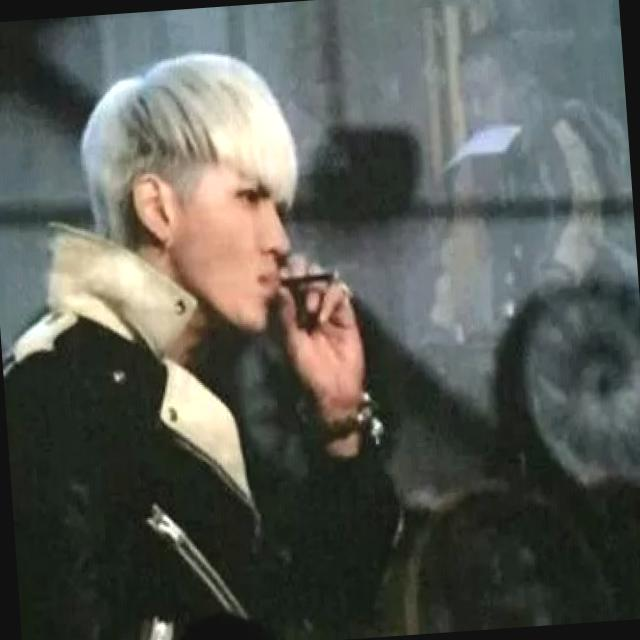smoke: (276, 270, 339, 288)
